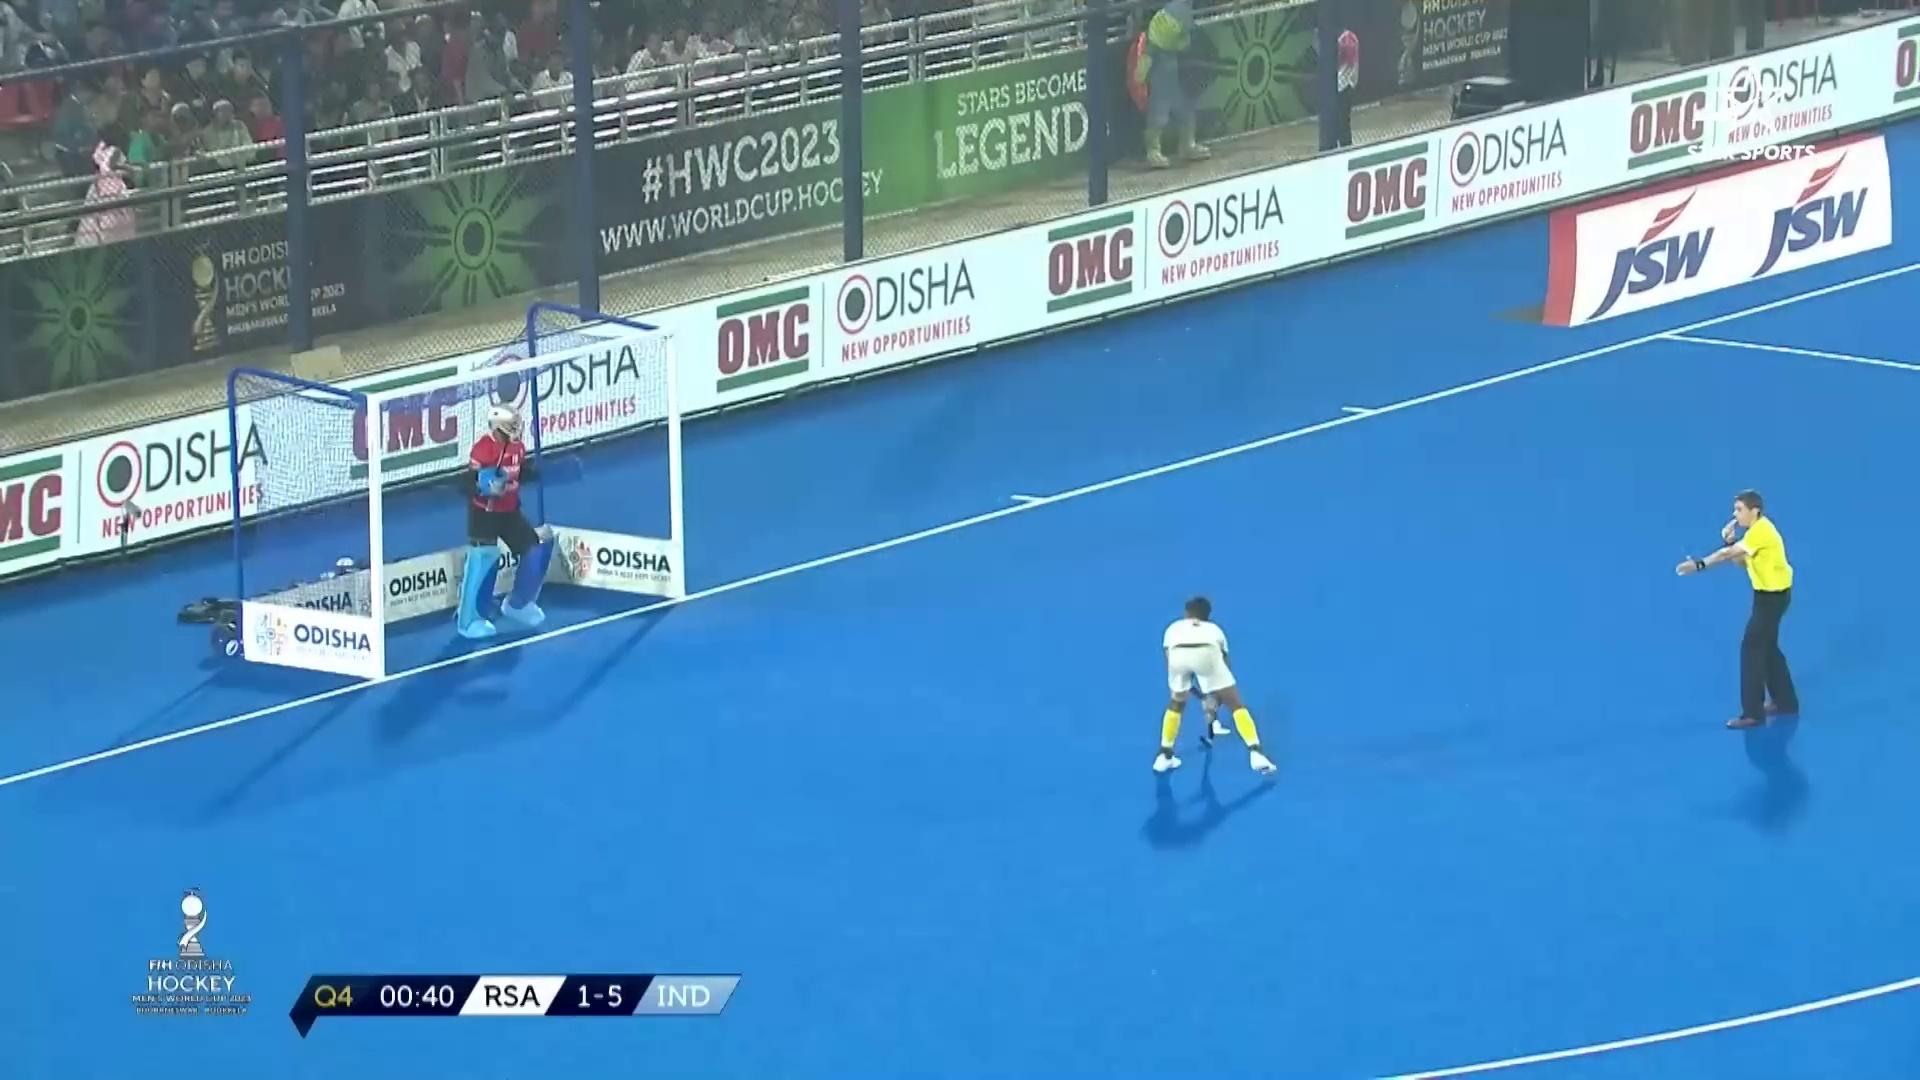ball: (1209, 713, 1225, 737)
